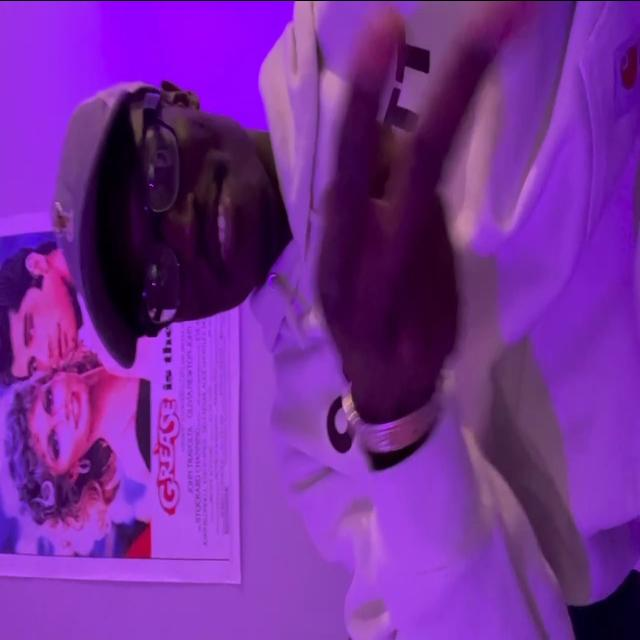Scissors: (312, 0, 521, 436)
